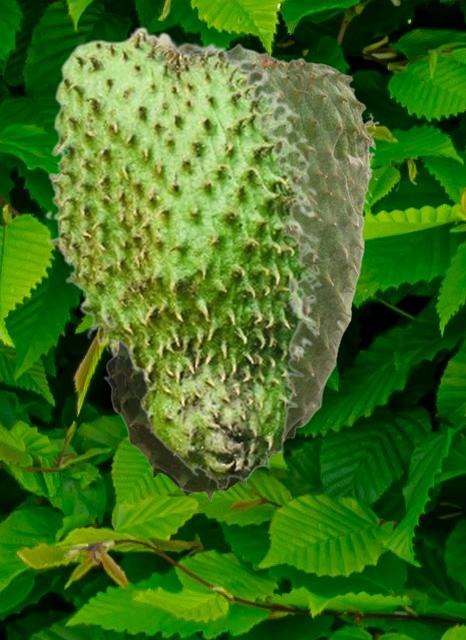guyabano: (44, 25, 323, 490), (103, 42, 378, 500)
